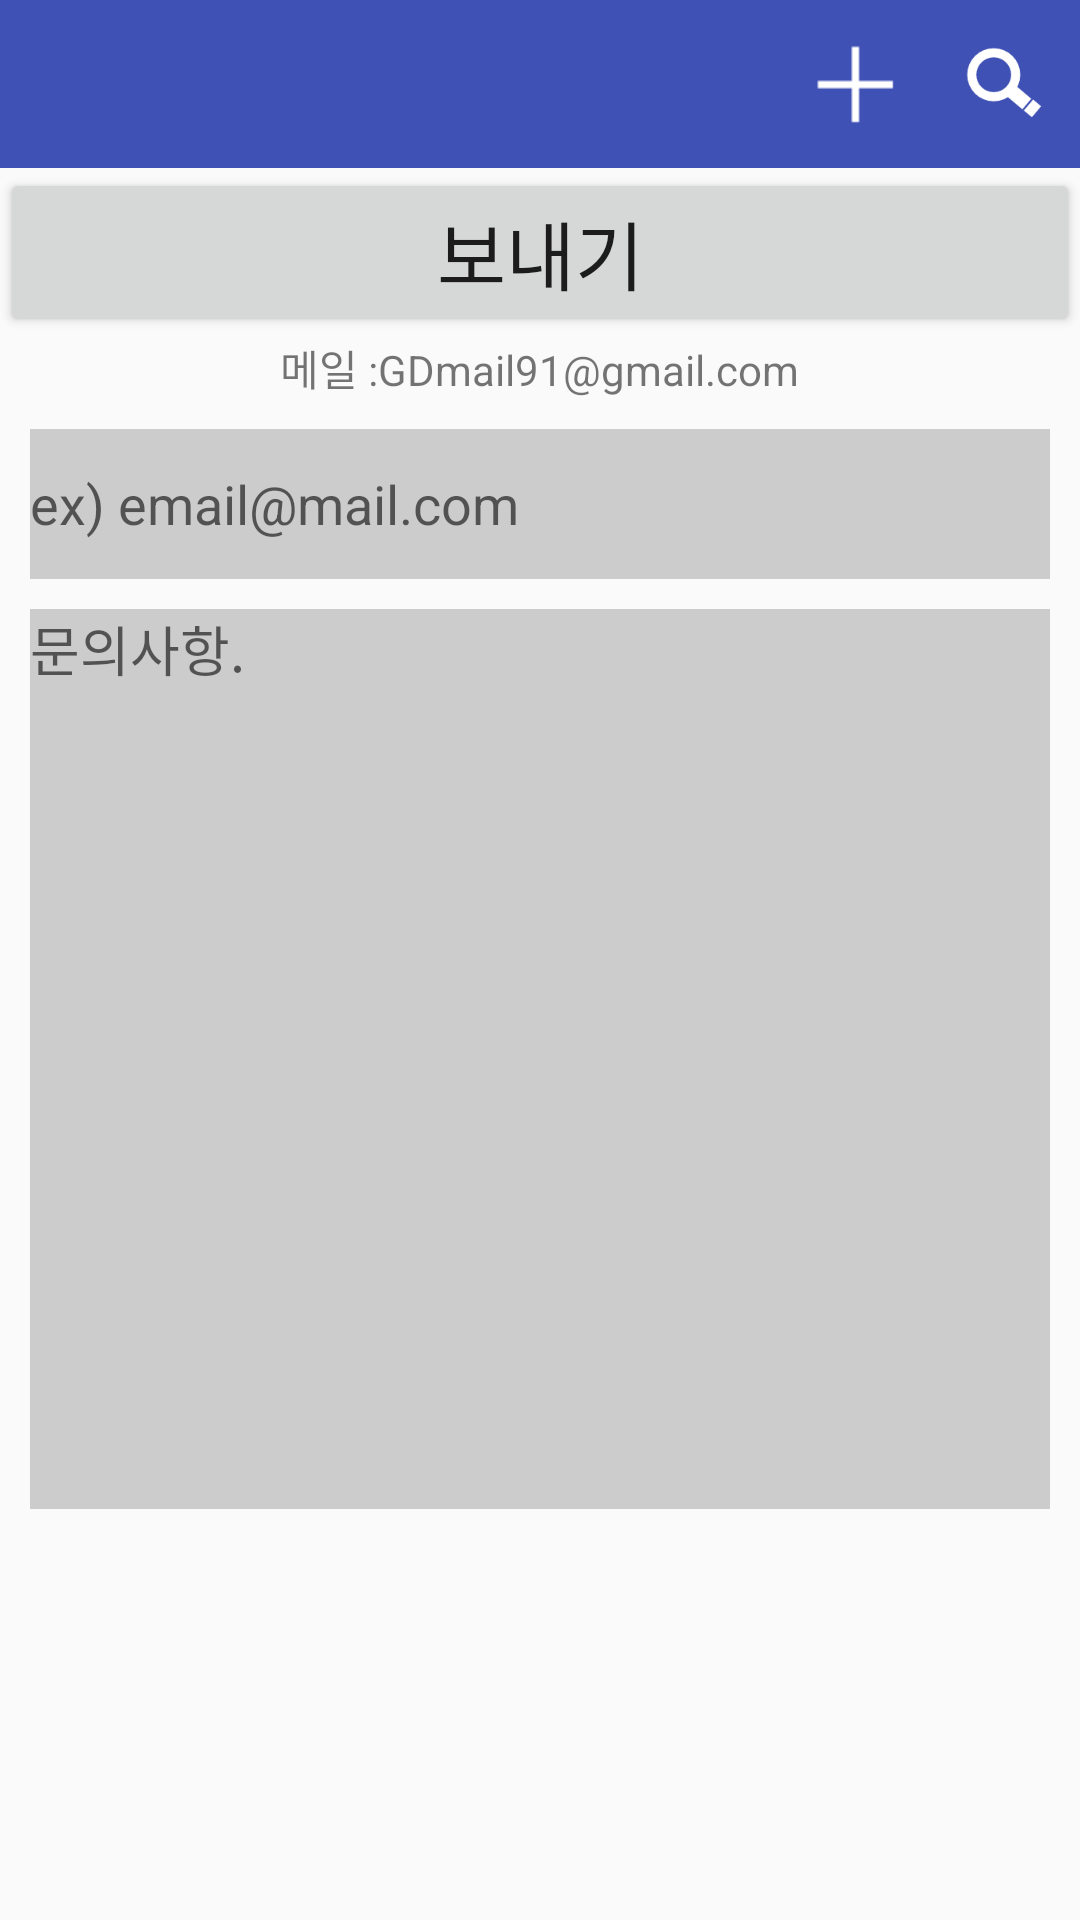

Point at icon controls on the screen. Image size 1080×1920, points as [x,y].
plus: [855,84]
search: [1004,82]
